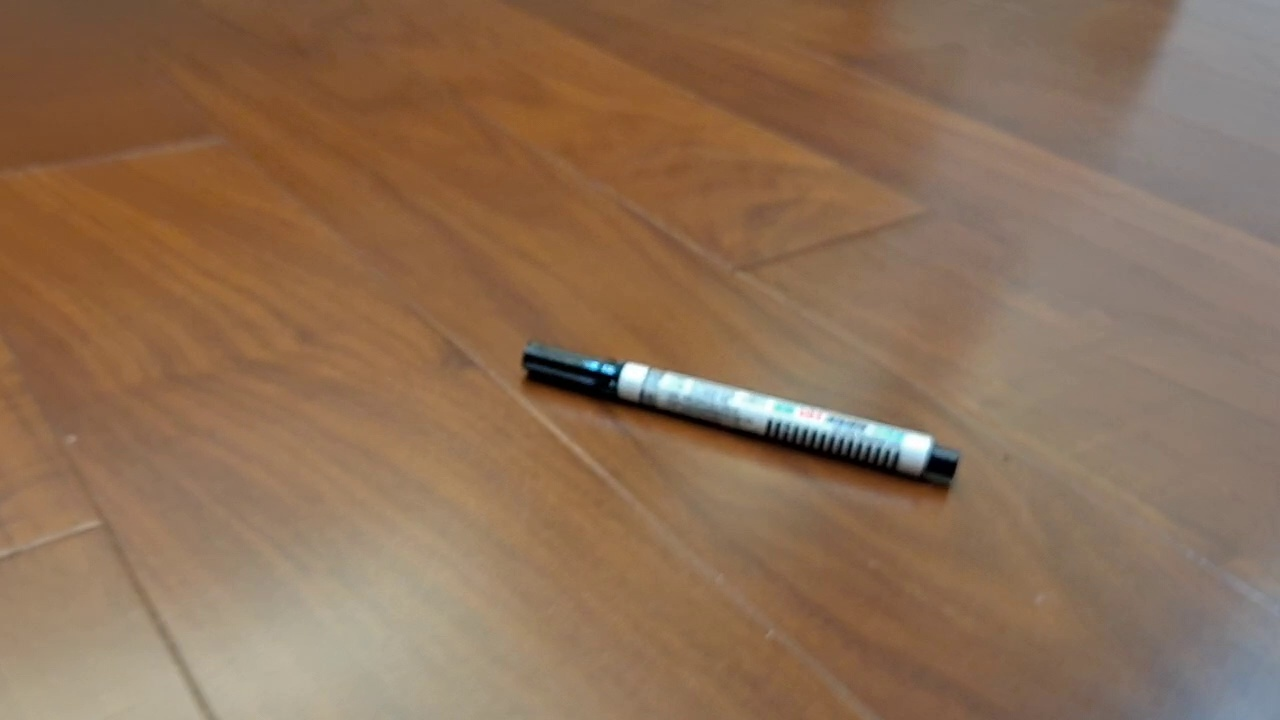pen: (521, 339, 961, 484)
